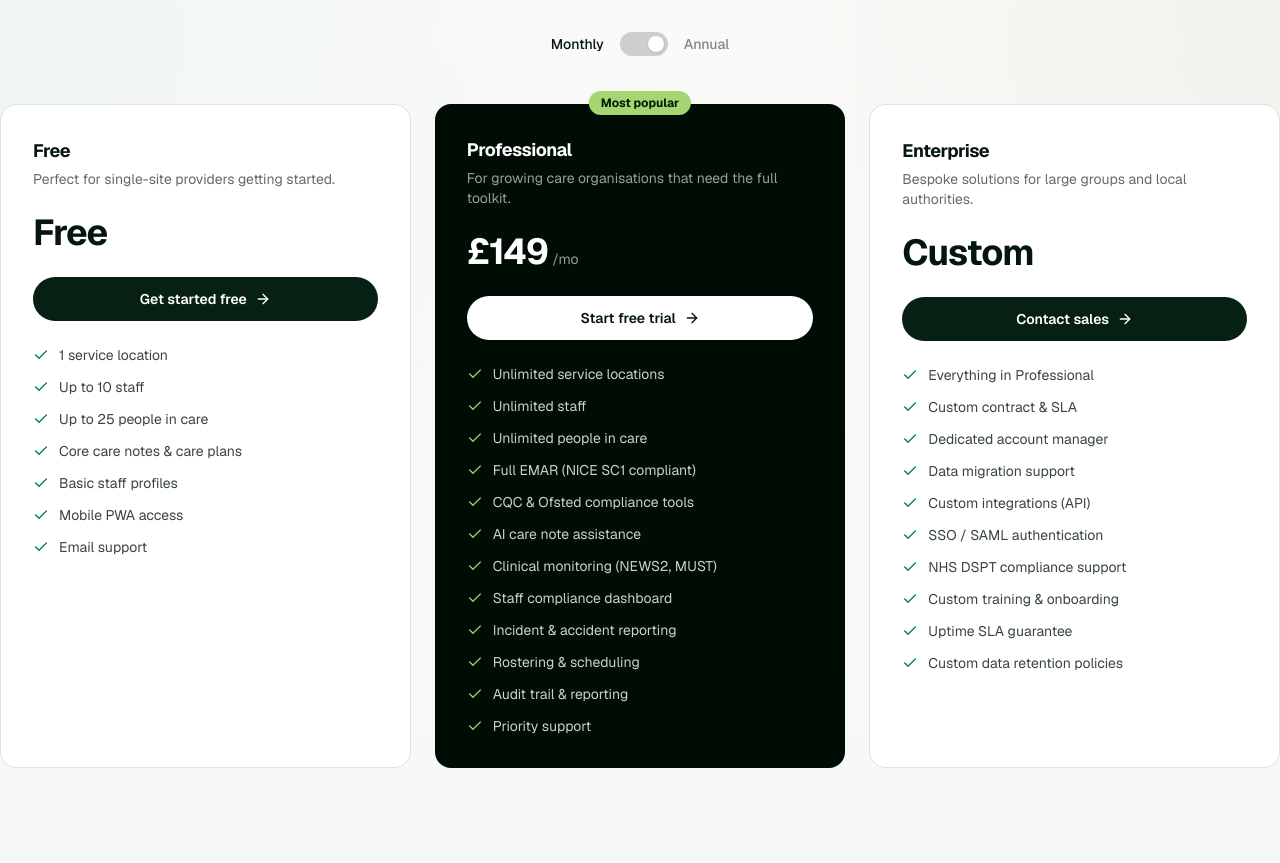
Test: PricingContent › billing toggle › shows Save 20% badge when annual billing is selected
The image size is (1280, 863).
Expected: the text "save 20%" is not shown
Toggle to annual
Step 1. Click the switch → (644, 44), box [620,32,668,56]
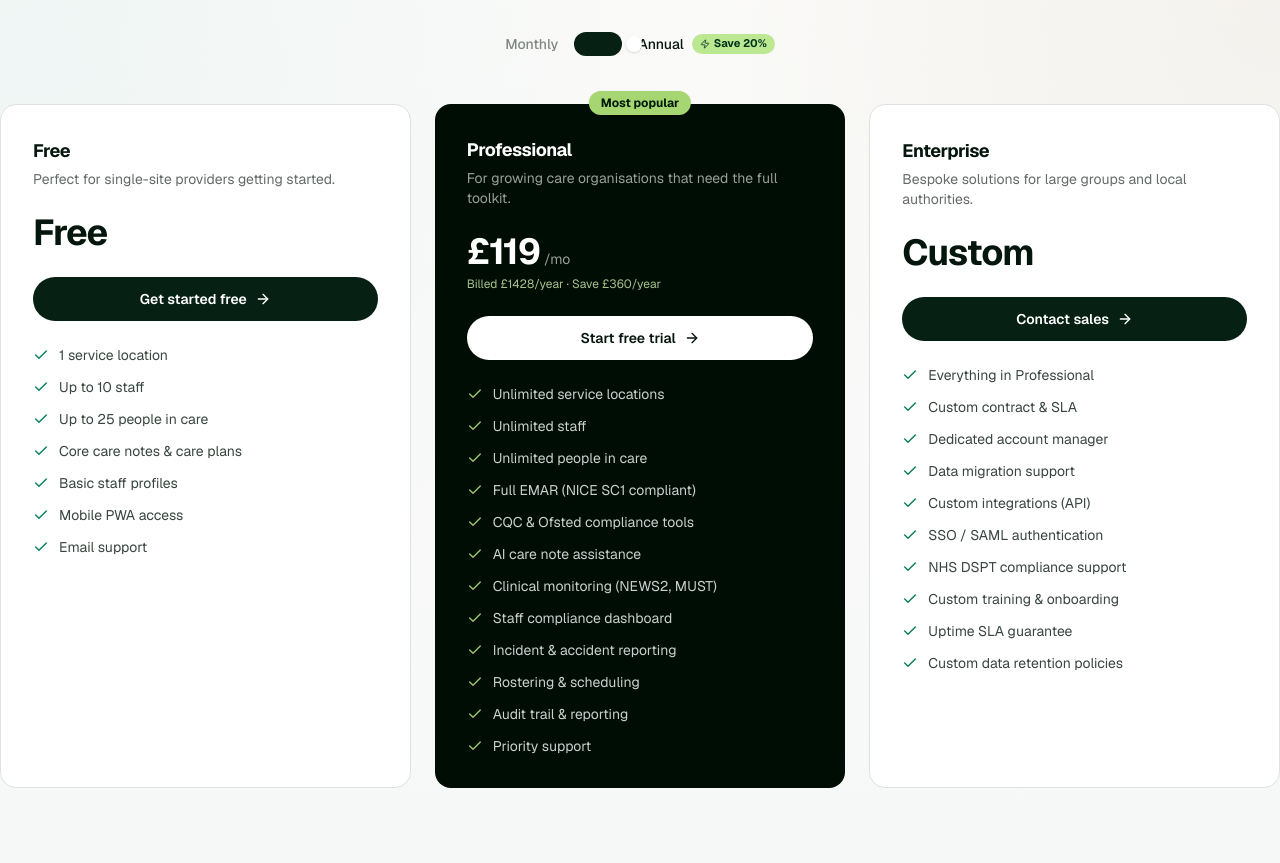
Result: the text "Save 20%" is shown at [692,34,775,54]
